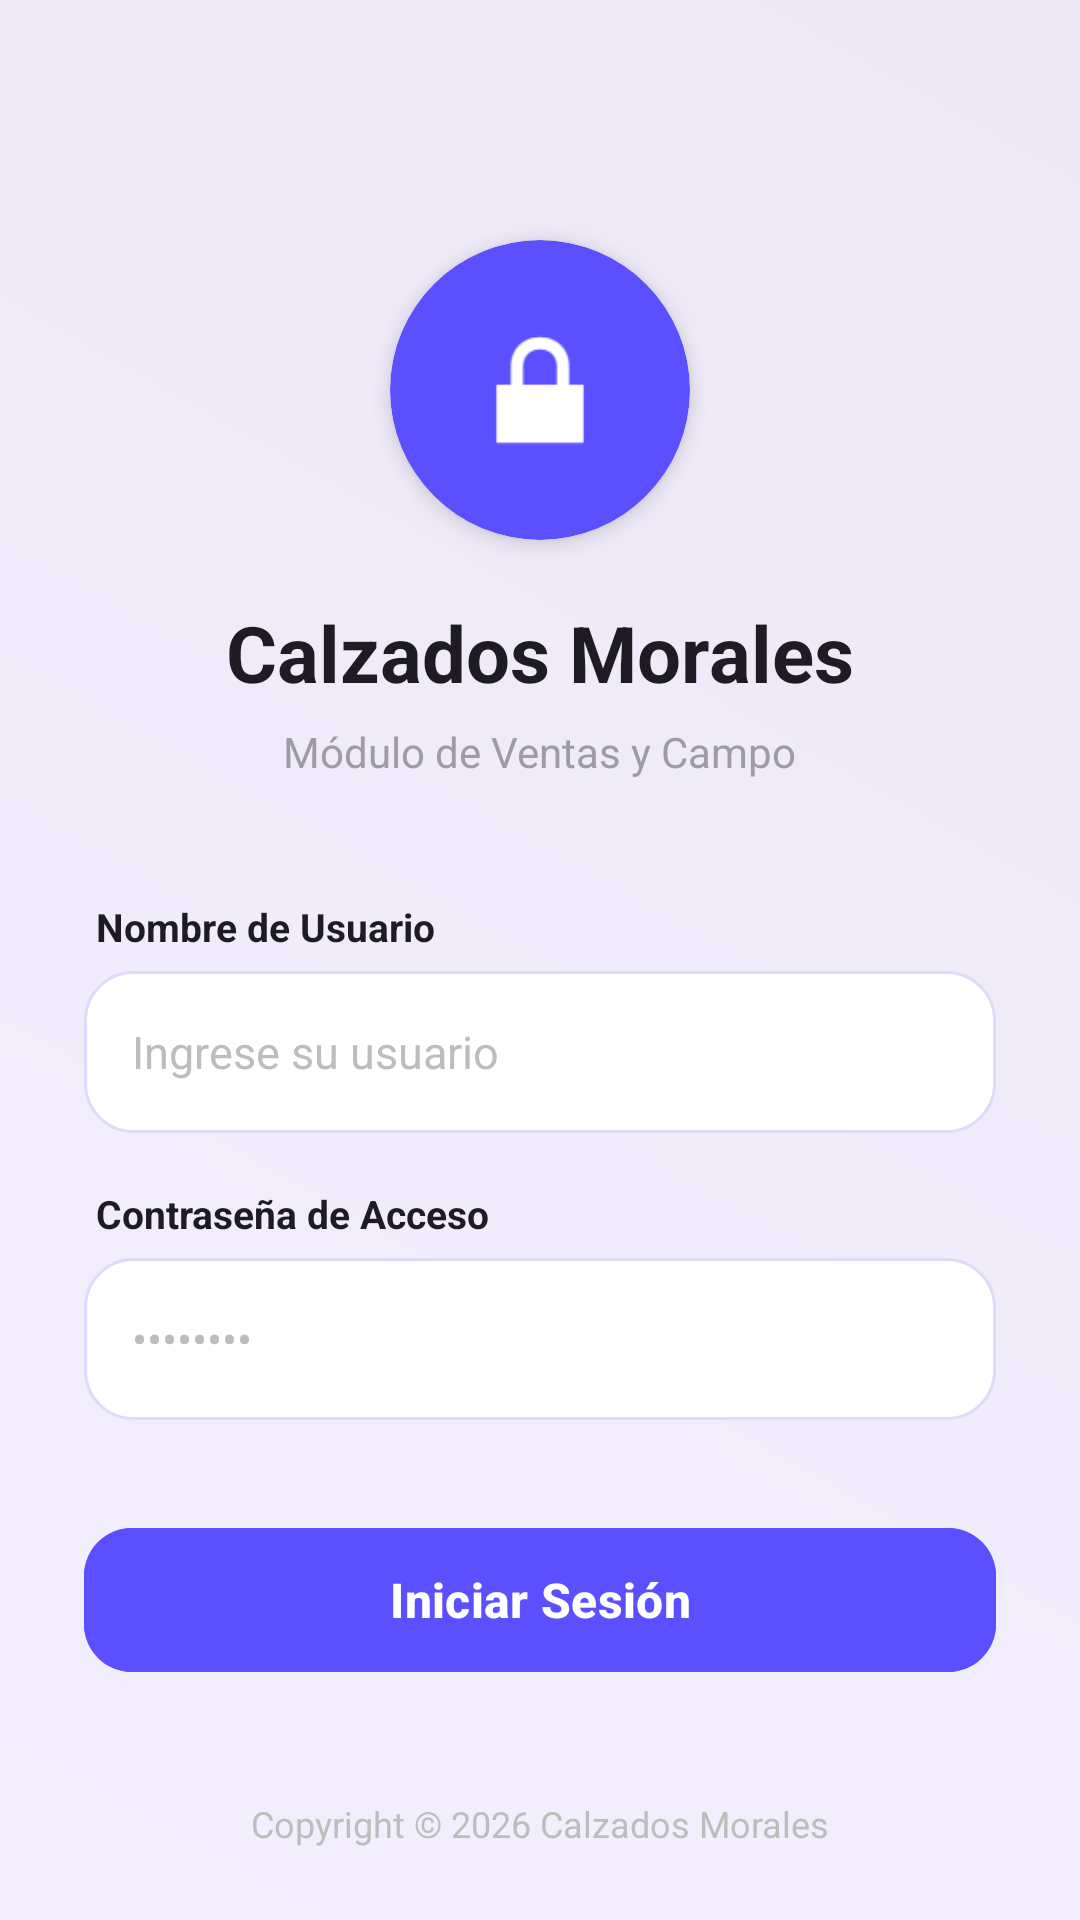

Screen size 1080 × 1920. Icon name, then its center in pixels as [x,y]:
lock: [540,390]
